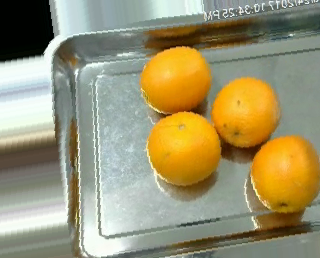Orange: (146, 110, 222, 185), (250, 135, 320, 214), (140, 46, 211, 114), (212, 77, 279, 148)
